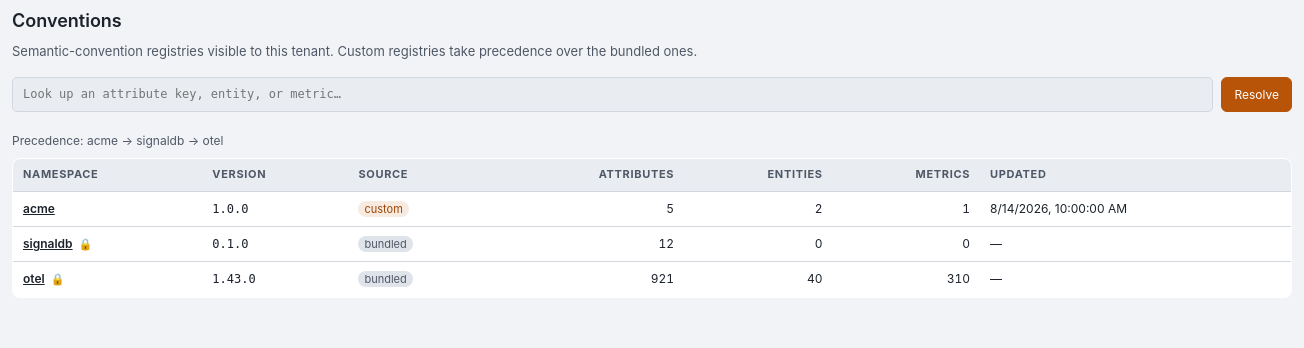
RegistryList › says so when nothing matches
Expected: the link "otel" is shown, x1=23 y1=271 x2=45 y2=286
Type "nope" into the field named "Lookup" at point(613, 95), box x1=12 y1=77 x2=1214 y2=112
Then press Enter
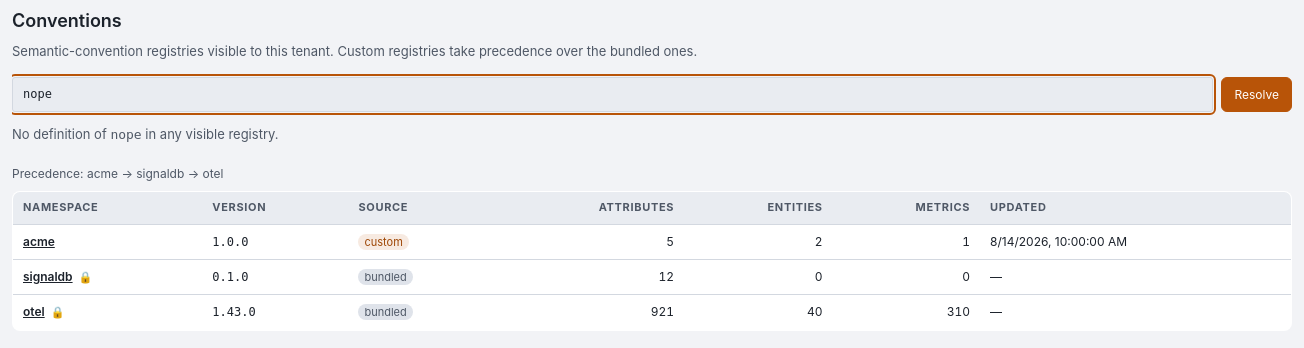
Now the text "No definition of nope in any visible registry." is shown, box x1=12 y1=126 x2=278 y2=142
